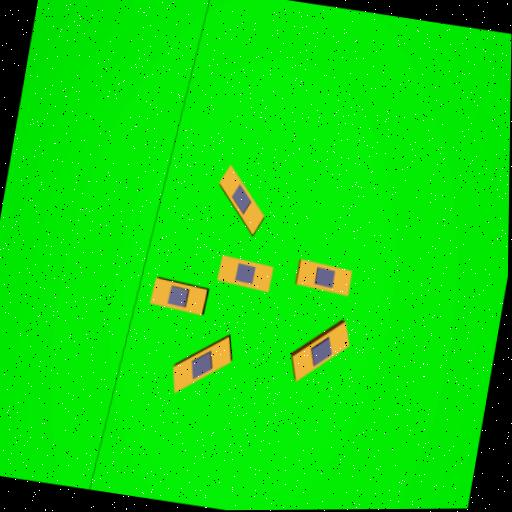objects: (282, 320, 358, 382), (162, 334, 240, 394), (213, 165, 269, 235), (215, 254, 275, 294), (149, 277, 208, 316), (295, 258, 354, 296)
